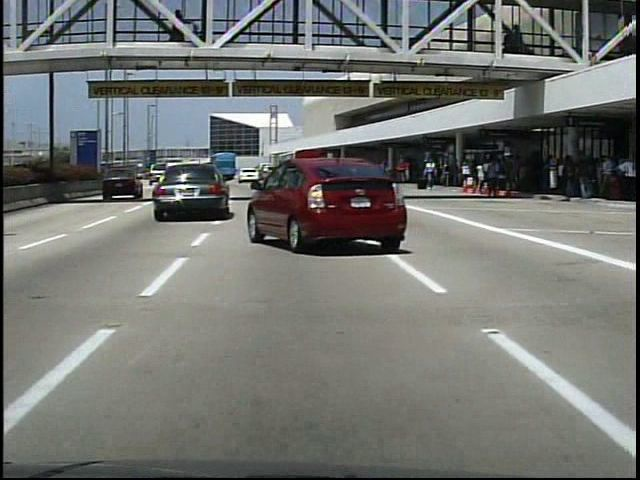person: (484, 157, 502, 205), (170, 11, 187, 44), (424, 160, 440, 193)
